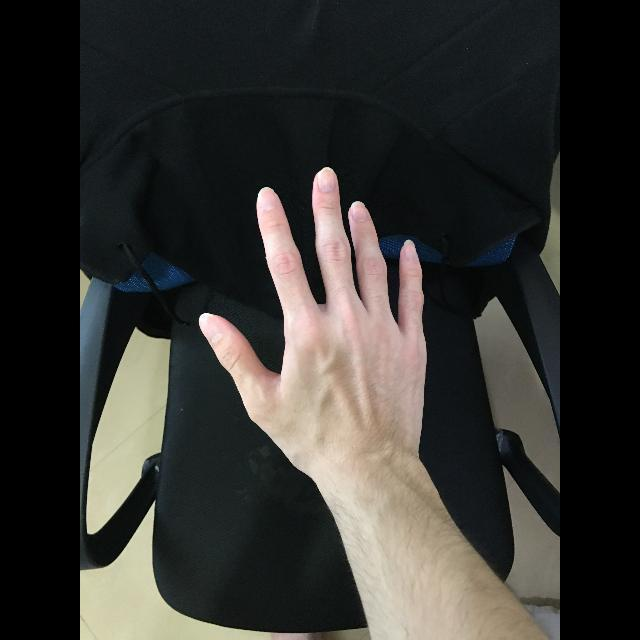bare_hand: (195, 161, 430, 465)
